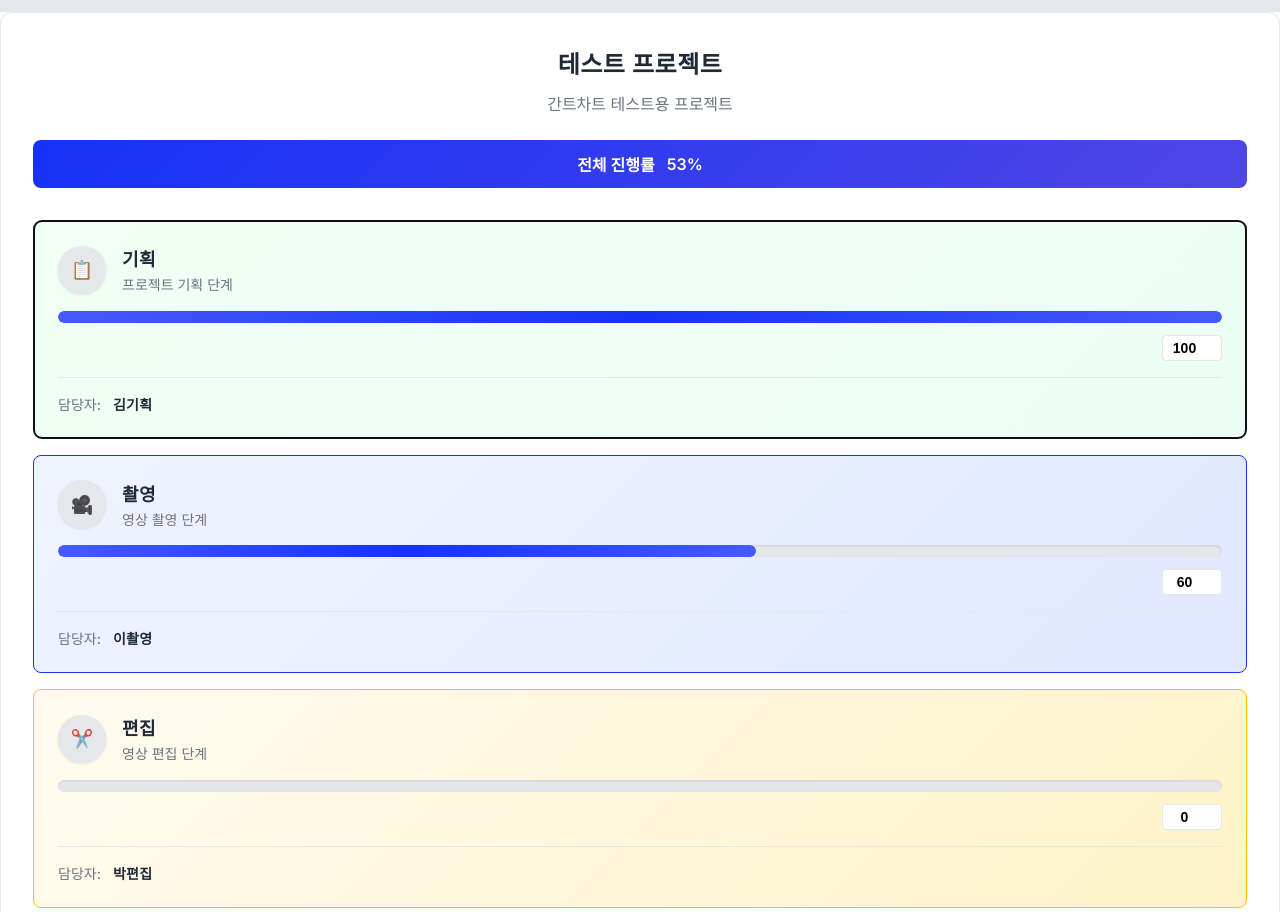
GanttChart › 툴팁 › 툴팁이 활성화되면 단계에 마우스 오버 시 상세 정보를 표시한다
The image size is (1280, 912).
Hover over the button with test id "phase-SHOOT" at [640, 564], box x1=33 y1=455 x2=1247 y2=673
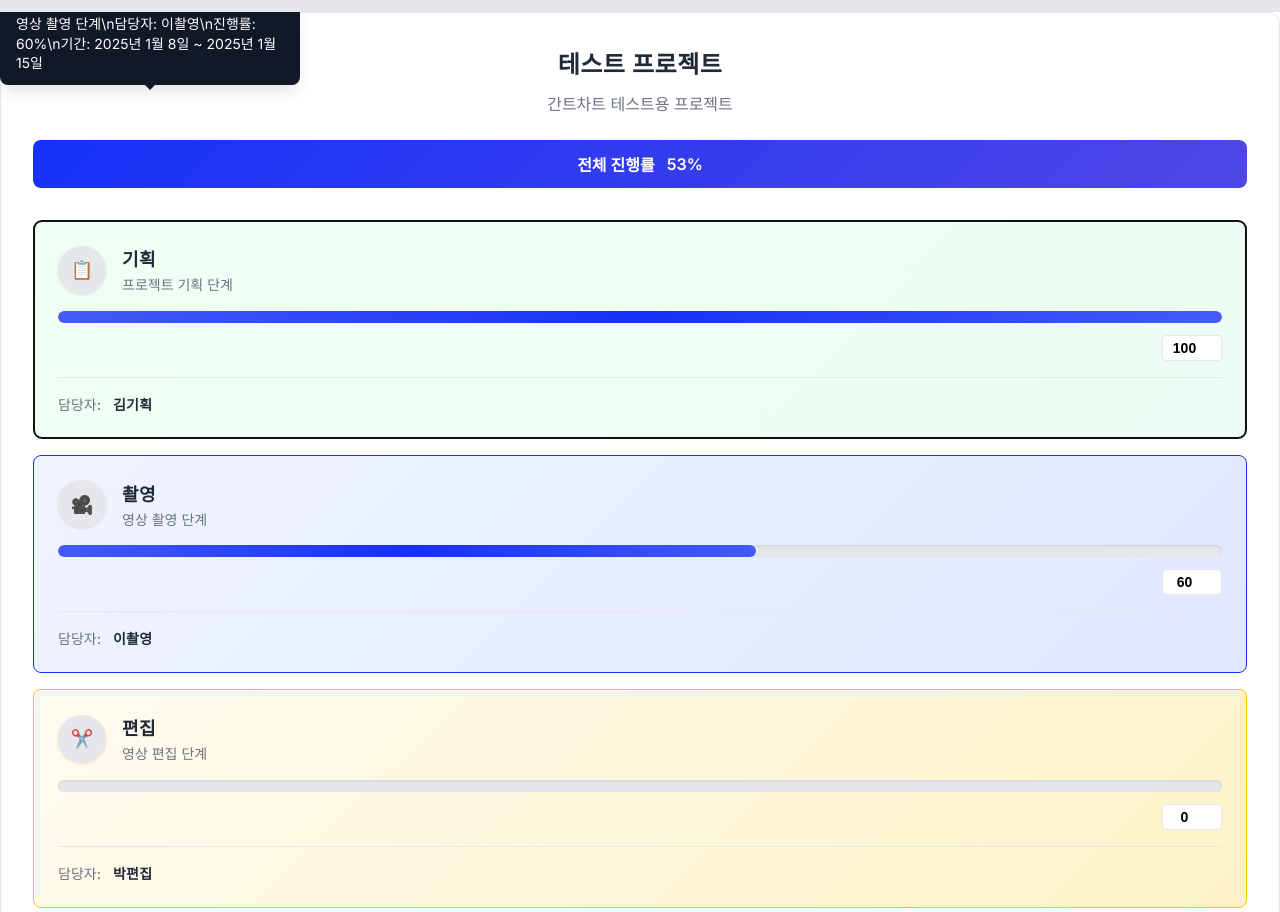
Result: the tooltip shows "영상 촬영 단계" at x1=16 y1=15 x2=276 y2=71
Result: the tooltip shows "담당자: 이촬영" at x1=16 y1=15 x2=276 y2=71
